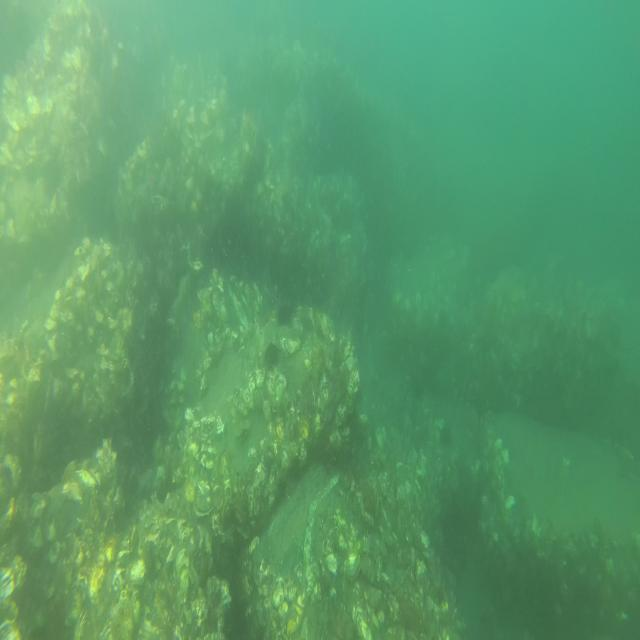echinus: (220, 600, 248, 637), (262, 341, 280, 373), (276, 303, 292, 330), (438, 423, 452, 448)
